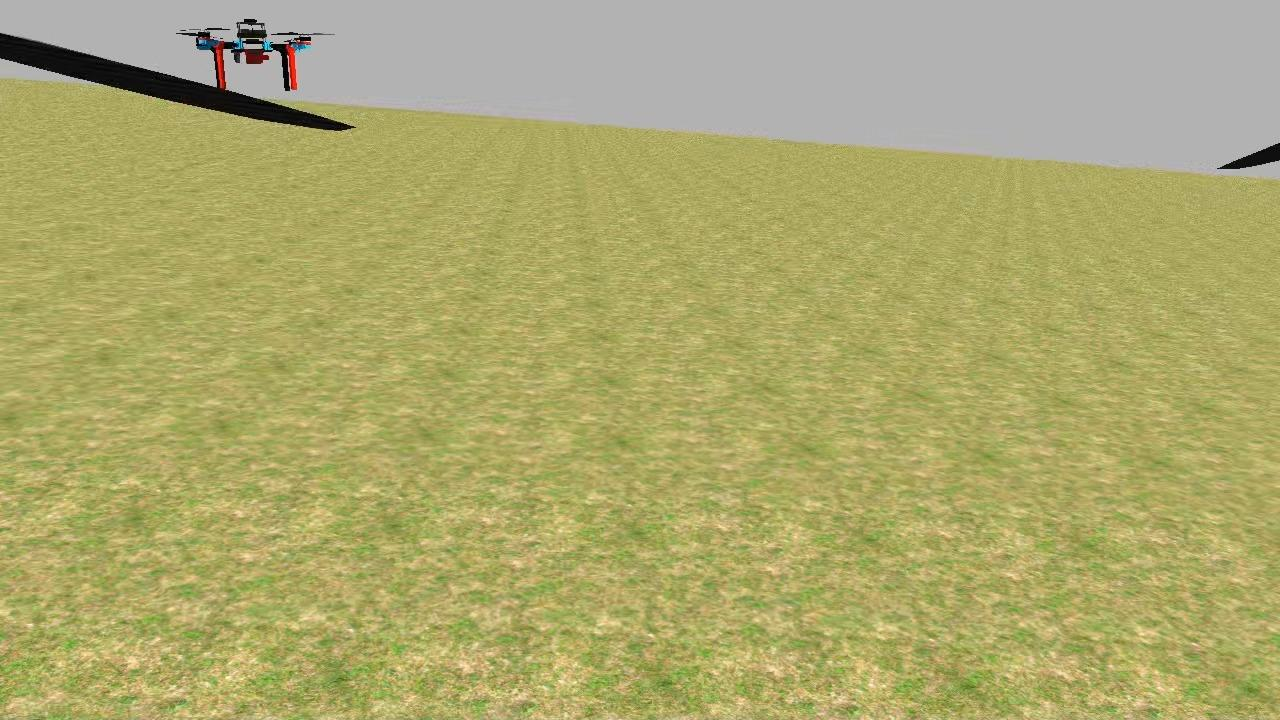UAV: (172, 13, 332, 106)
